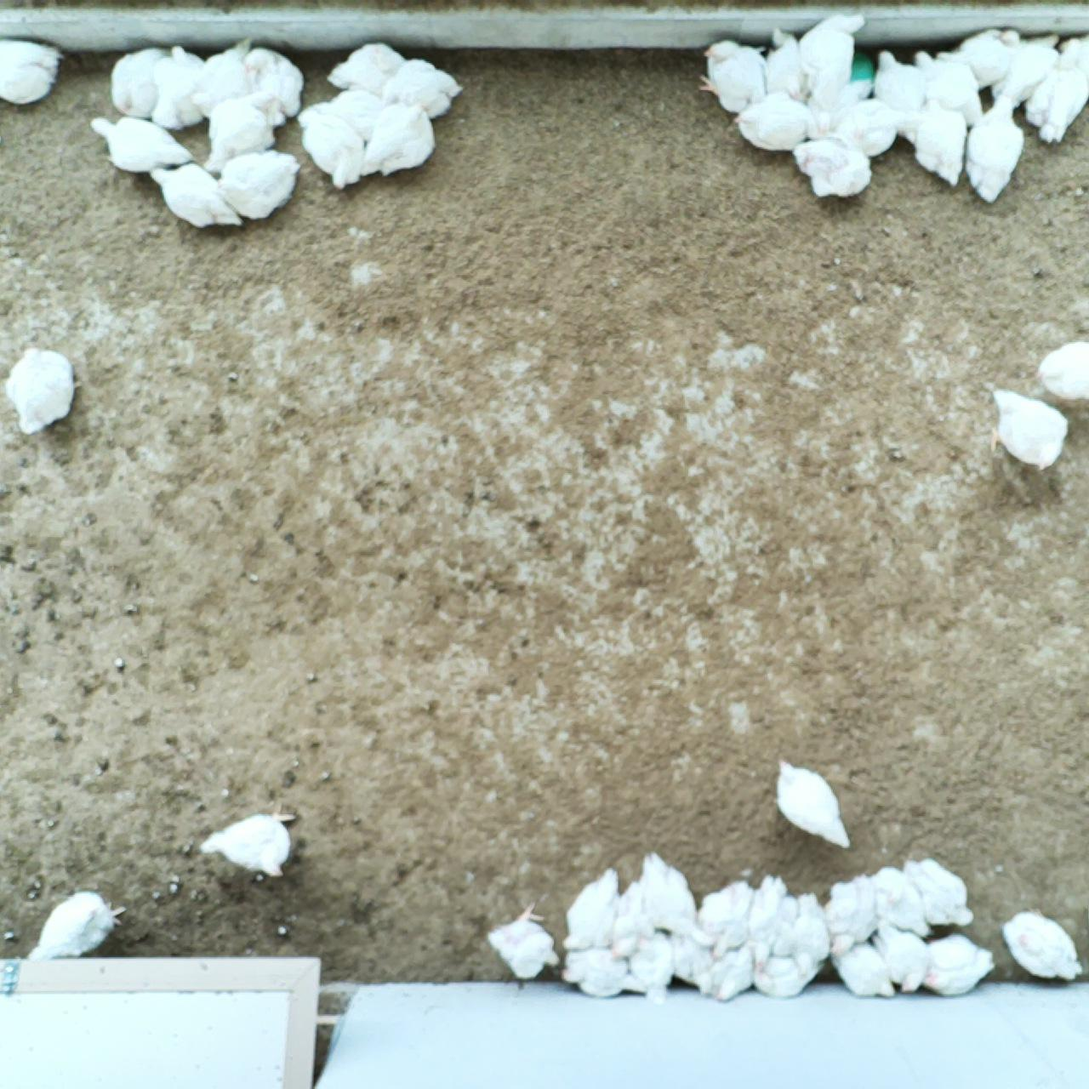chicken: (200, 800, 302, 882), (983, 382, 1071, 473), (145, 154, 247, 232), (24, 885, 125, 962), (776, 758, 856, 854), (1026, 31, 1089, 147), (639, 848, 712, 948), (4, 346, 84, 437), (964, 89, 1026, 206), (88, 112, 197, 176), (1001, 906, 1089, 985), (214, 148, 303, 226), (201, 88, 280, 175), (485, 897, 562, 980), (359, 99, 437, 180), (298, 104, 368, 193), (188, 36, 257, 124), (733, 86, 817, 158), (906, 95, 968, 191), (698, 37, 773, 116), (559, 865, 627, 952), (789, 137, 873, 207), (902, 855, 978, 929), (148, 43, 210, 133), (937, 24, 1024, 88), (874, 44, 927, 146), (913, 47, 987, 120), (244, 45, 307, 130), (815, 10, 866, 112), (921, 932, 998, 999), (822, 873, 882, 958), (323, 38, 406, 98), (387, 55, 465, 118), (818, 99, 902, 157), (109, 43, 173, 118), (697, 875, 754, 957), (872, 864, 934, 938), (751, 872, 796, 969), (0, 38, 64, 106), (831, 939, 897, 1001), (315, 88, 390, 142), (1029, 336, 1089, 403), (875, 925, 932, 995), (560, 945, 631, 999), (627, 932, 676, 1010), (754, 955, 829, 1005), (765, 27, 813, 105), (794, 889, 832, 981), (611, 876, 651, 962), (714, 946, 756, 1002), (676, 940, 716, 997)
